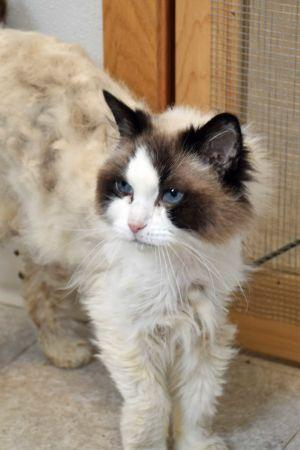ragdoll: (80, 80, 256, 273)
